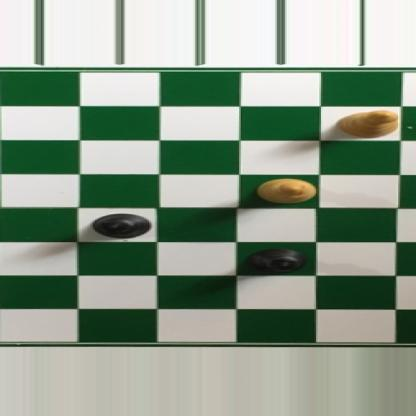black-bishop: (242, 248, 306, 277), (90, 212, 154, 240)
white-bishop: (334, 109, 398, 138), (254, 178, 314, 204)
